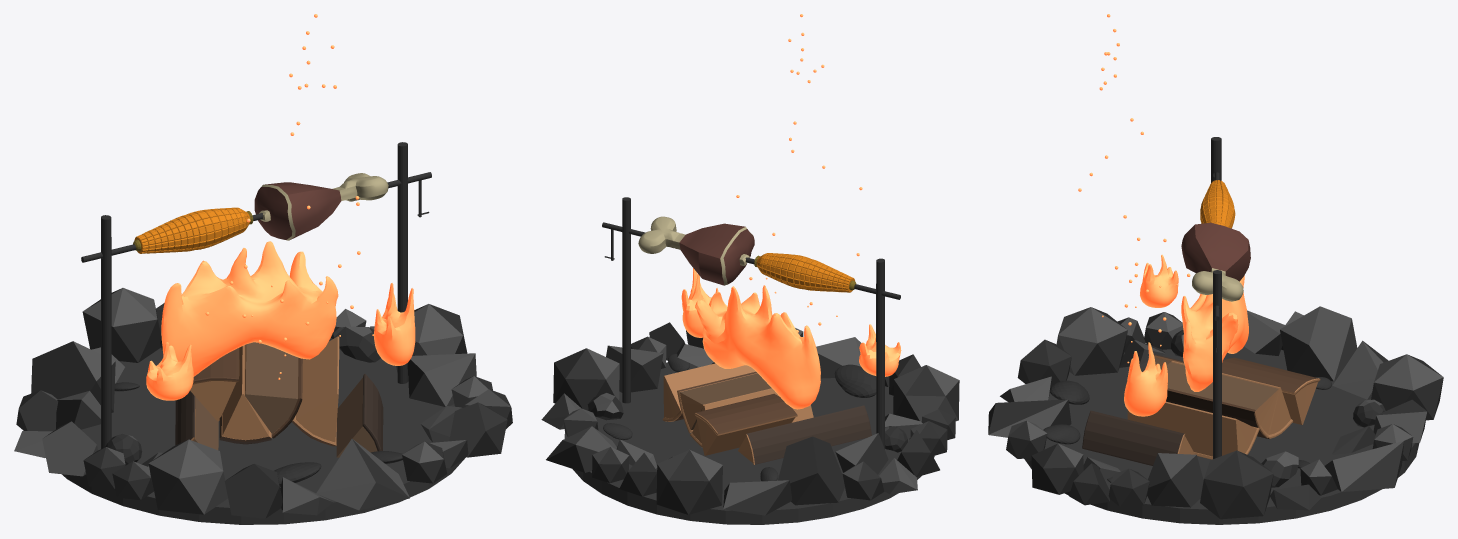
The model's file is Fuoco + cibo.fbx.
The picture shows the model from 3 angles, left to right: view 1: azimuth 30°, elevation 25°; view 2: azimuth 150°, elevation 25°; view 3: azimuth 270°, elevation 25°; orthographic projection. The views are drawn at different scales.
Visible parts, largest first — view 1: Candle 5.052; view 2: Candle 5.052; view 3: Candle 5.052.
Boxes of the visible parts, x1,y1,x2,y2 form: Candle 5.052: (14,14,512,524); Candle 5.052: (541,14,959,524); Candle 5.052: (988,14,1443,524).
Bounding box in the file's own units: 420 × 426 × 413.
